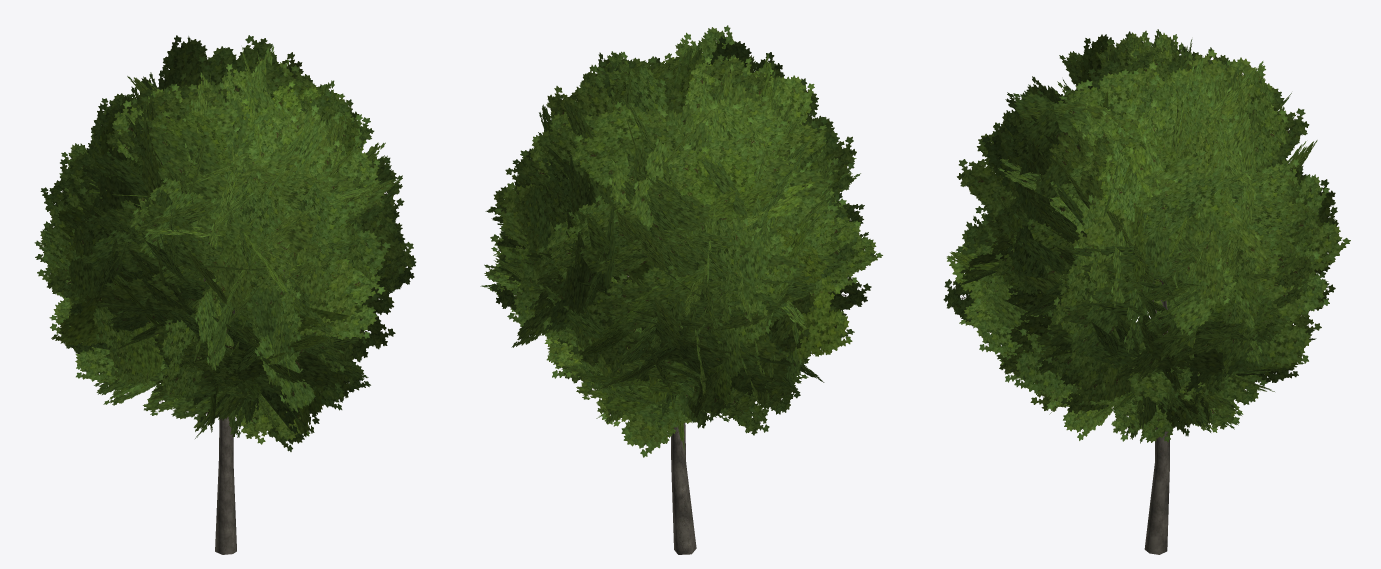
Rendered from arbre_feuillu_jeune_lod1.glb.
3 renders of one model, left to right at view 1: azimuth 30°, elevation 25°; view 2: azimuth 150°, elevation 25°; view 3: azimuth 270°, elevation 25°, orthographic. The views are drawn at different scales.
Parts seen in each view (by area): view 1: arbre_feuillu_jeune_lod1; view 2: arbre_feuillu_jeune_lod1; view 3: arbre_feuillu_jeune_lod1.
Boxes of the visible parts, bbox=[...] form: arbre_feuillu_jeune_lod1: bbox=[34, 35, 416, 554]; arbre_feuillu_jeune_lod1: bbox=[480, 25, 882, 554]; arbre_feuillu_jeune_lod1: bbox=[943, 29, 1350, 554].
Bounding box in the file's own units: 5.06 × 6.7 × 5.1.
2 materials, 2 textured.
